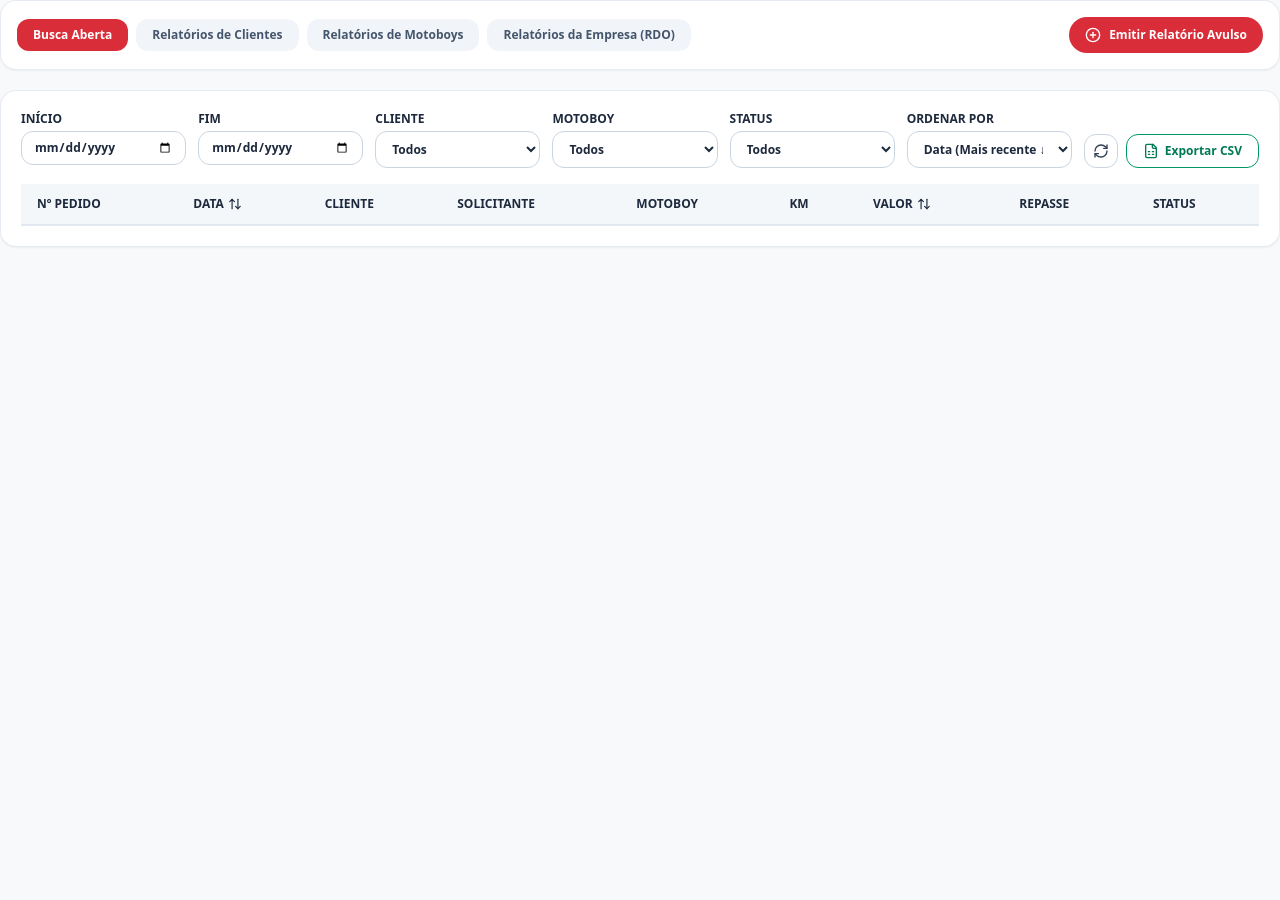
Scenario: ReportsScreen › should display Relatórios da Empresa (RDO) tab only for MASTER profile, and render all 8 RESUMO GERAL fields plus per-motoboy aggregates and total to pay
Later steps or results of the test are not shown.
Click the button "Relatórios da Empresa (RDO)" at (589, 35), box [488,19,691,51]
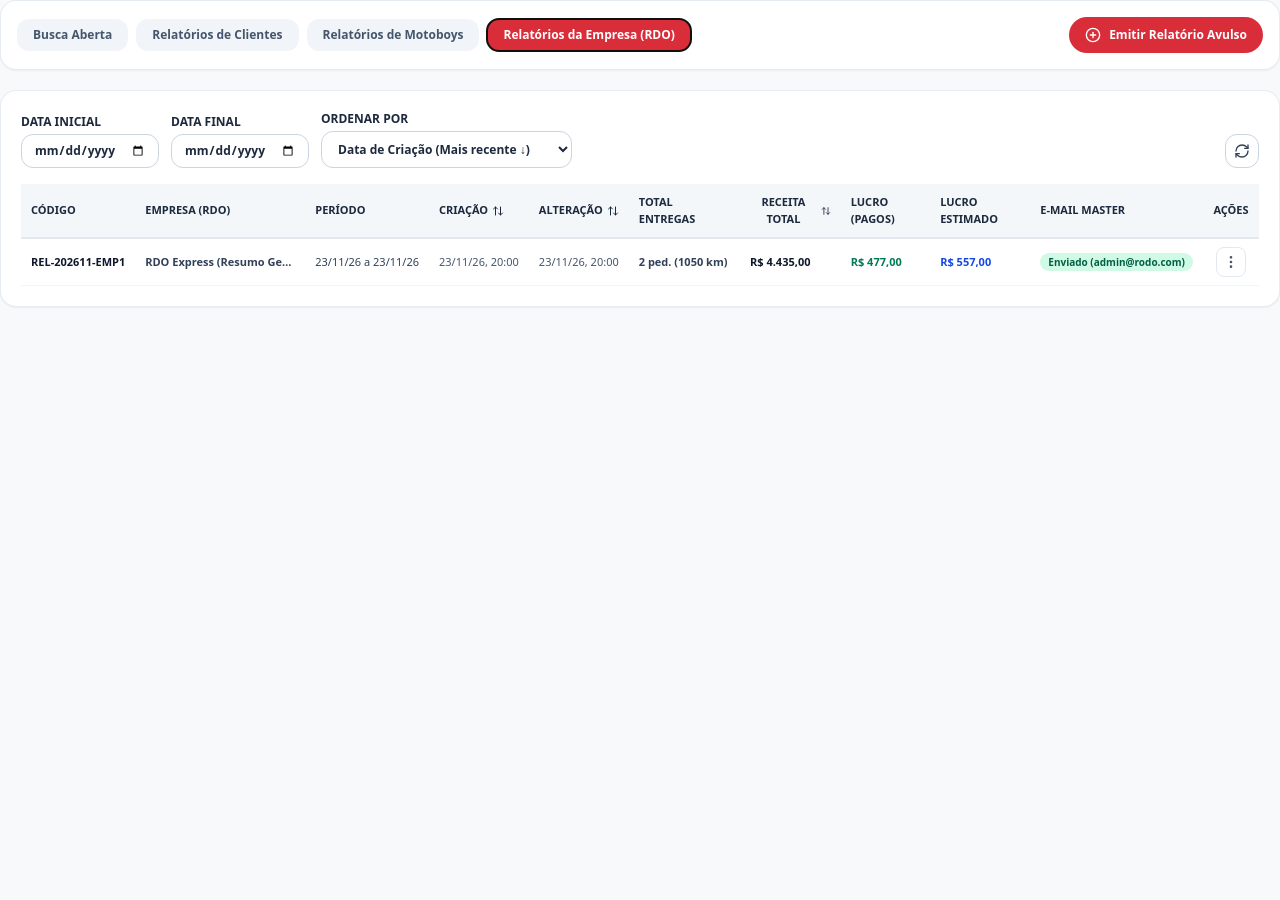
Check: the text "REL-202611-EMP1" is shown, box [21,238,135,286]
Click the button with test id "report-actions-trigger-0" at (1231, 262), box [1216,247,1246,277]
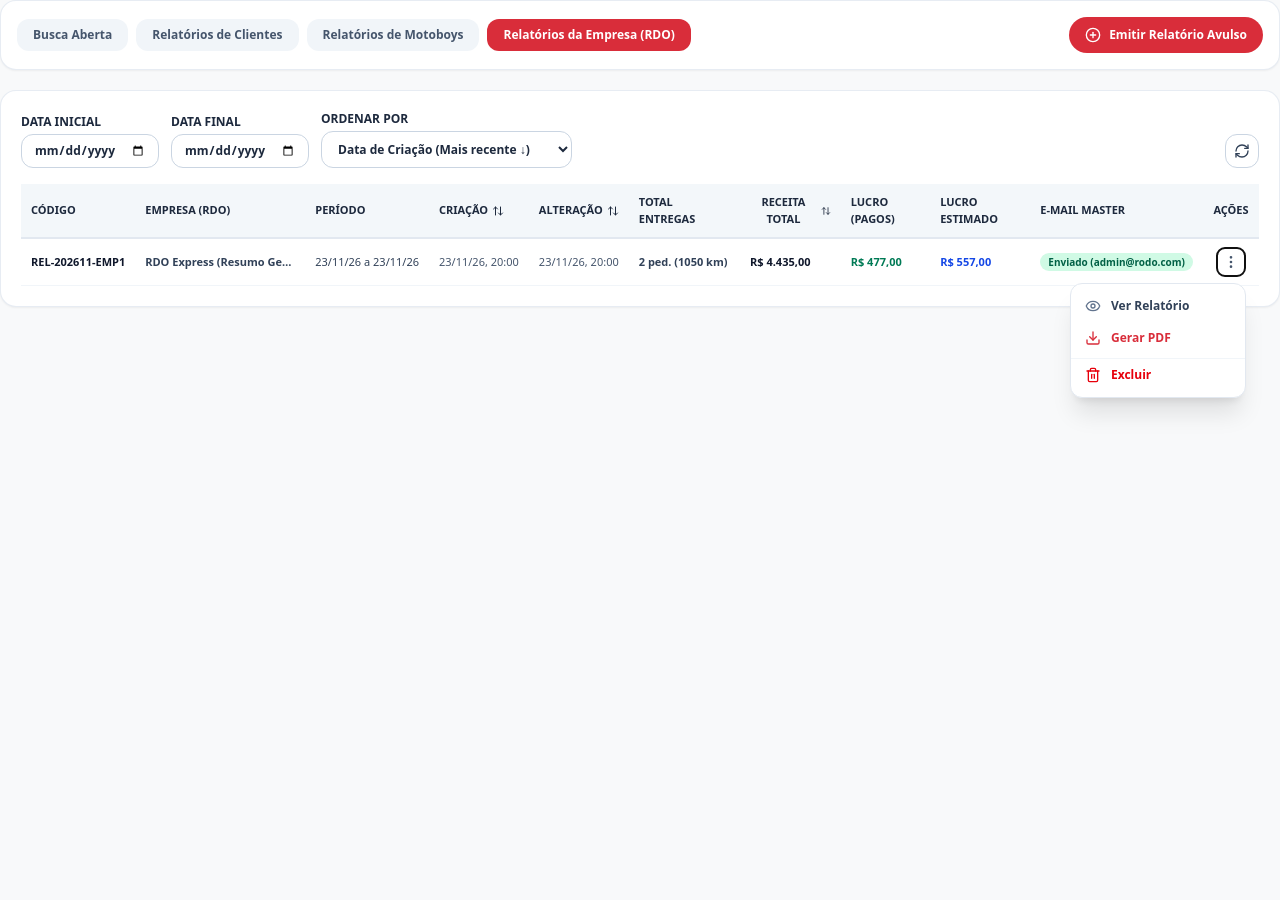
Click the button "Ver Relatório" at (1158, 306), box [1071,290,1245,322]
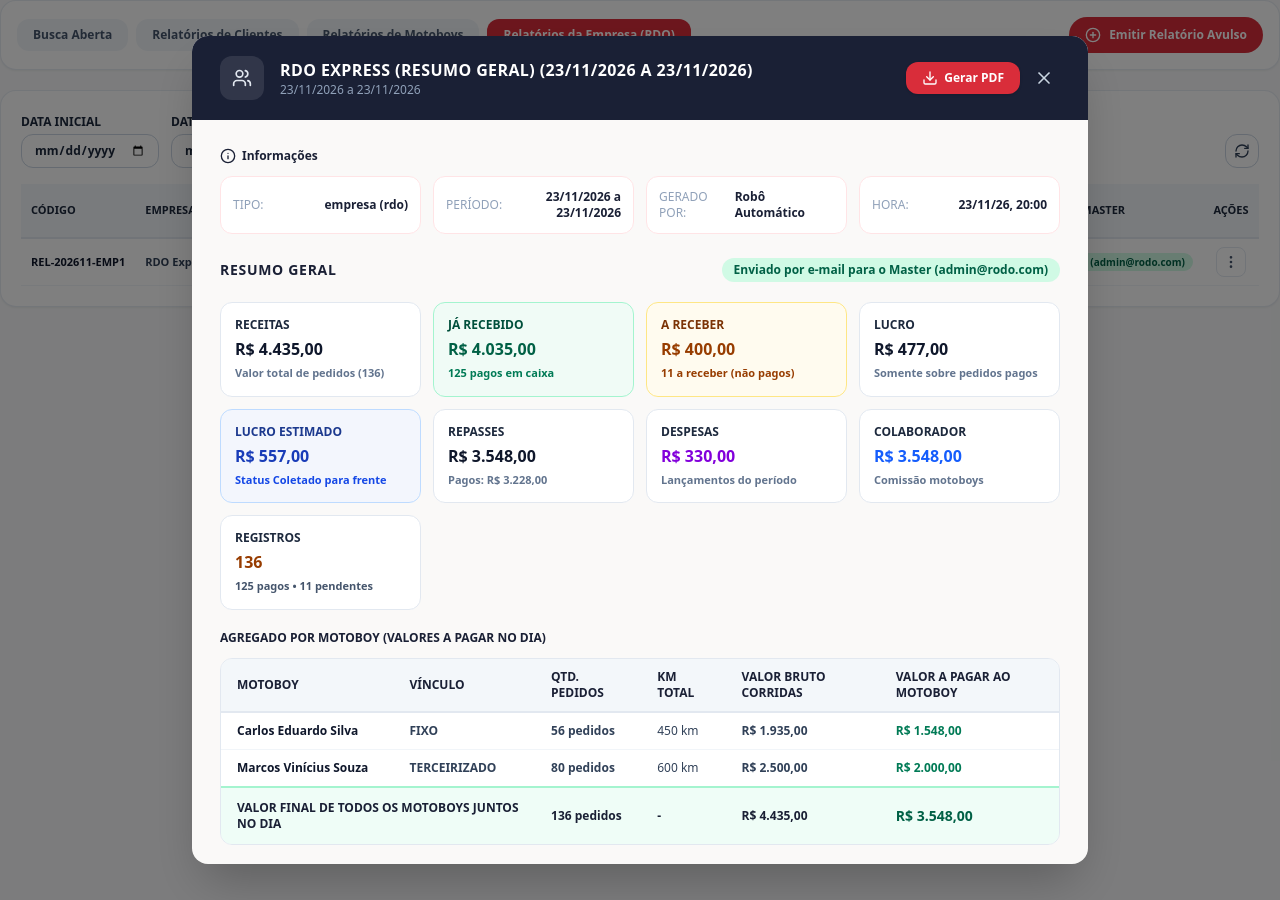
Check: the text "Valor total de pedidos (136)" is shown, box [235,365,406,382]
Check: the text "125 pagos em caixa" is shown, box [448,365,554,380]
Check: the text "11 a receber (não pagos)" is shown, box [661,365,794,380]
